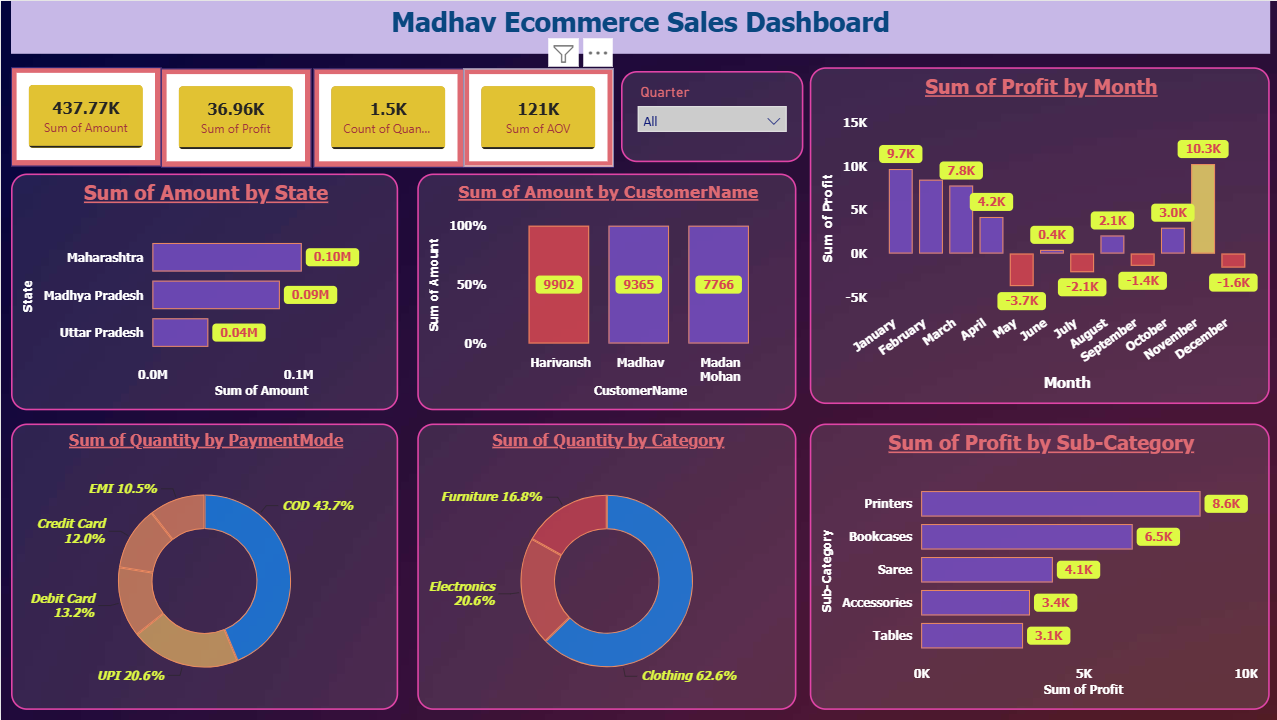

What the dashboard file says about the page in this screenshot:
{"tool":"powerbi","page":{"name":"Page 1","canvas":[1280,720],"ordinal":0},"visuals":[{"type":"textbox","box":[10,0,1259,53],"z":0},{"type":"columnChart","fields":{"Category":["Orders.Order Date.Variation.Date Hierarchy.Month"],"Y":["Sum(Details.Profit)"]},"box":[809,66,460,337],"z":1000},{"type":"barChart","fields":{"Category":["Details.Sub-Category"],"Y":["Sum(Details.Profit)"]},"box":[809,422,460,286],"z":2000},{"type":"donutChart","fields":{"Category":["Details.Category"],"Y":["Sum(Details.Quantity)"]},"box":[416,422,379,286],"z":3000},{"type":"donutChart","fields":{"Category":["Details.PaymentMode"],"Y":["Sum(Details.Quantity)"]},"box":[10,422,387,286],"z":4000},{"type":"cardVisual","fields":{"Data":["Sum(Details.Profit)"]},"box":[160,67,150,99],"z":5000},{"type":"cardVisual","fields":{"Data":["CountNonNull(Details.Quantity)"]},"box":[313,67,150,99],"z":6000},{"type":"cardVisual","fields":{"Data":["Sum(Details.AOV)"]},"box":[463,67,150,99],"z":7000},{"type":"cardVisual","fields":{"Data":["Sum(Details.Amount)"]},"box":[10,66,150,99],"z":8000},{"type":"barChart","fields":{"Category":["Orders.State"],"Y":["Sum(Details.Amount)"]},"box":[10,173,387,237],"z":9000},{"type":"hundredPercentStackedColumnChart","fields":{"Category":["Orders.CustomerName"],"Y":["Sum(Details.Amount)"]},"box":[416,173,379,237],"z":10000},{"type":"slicer","fields":{"Values":["Orders.Order Date.Variation.Date Hierarchy.Quarter"]},"box":[620,70,182,91],"z":11000}]}

Visuals, with their boxes in screenshot pixels (x1, y1, x2, y2), scaled from the page's 1280x720 canvas onto the 1277x720 screenshot:
textbox: x1=10, y1=0, x2=1266, y2=53
columnChart - Orders.Order Date.Variation.Date Hierarchy.Month x Sum(Details.Profit): x1=807, y1=66, x2=1266, y2=403
barChart - Details.Sub-Category x Sum(Details.Profit): x1=807, y1=422, x2=1266, y2=708
donutChart - Details.Category x Sum(Details.Quantity): x1=415, y1=422, x2=793, y2=708
donutChart - Details.PaymentMode x Sum(Details.Quantity): x1=10, y1=422, x2=396, y2=708
cardVisual - Sum(Details.Profit): x1=160, y1=67, x2=309, y2=166
cardVisual - CountNonNull(Details.Quantity): x1=312, y1=67, x2=462, y2=166
cardVisual - Sum(Details.AOV): x1=462, y1=67, x2=612, y2=166
cardVisual - Sum(Details.Amount): x1=10, y1=66, x2=160, y2=165
barChart - Orders.State x Sum(Details.Amount): x1=10, y1=173, x2=396, y2=410
hundredPercentStackedColumnChart - Orders.CustomerName x Sum(Details.Amount): x1=415, y1=173, x2=793, y2=410
slicer - Orders.Order Date.Variation.Date Hierarchy.Quarter: x1=619, y1=70, x2=800, y2=161
